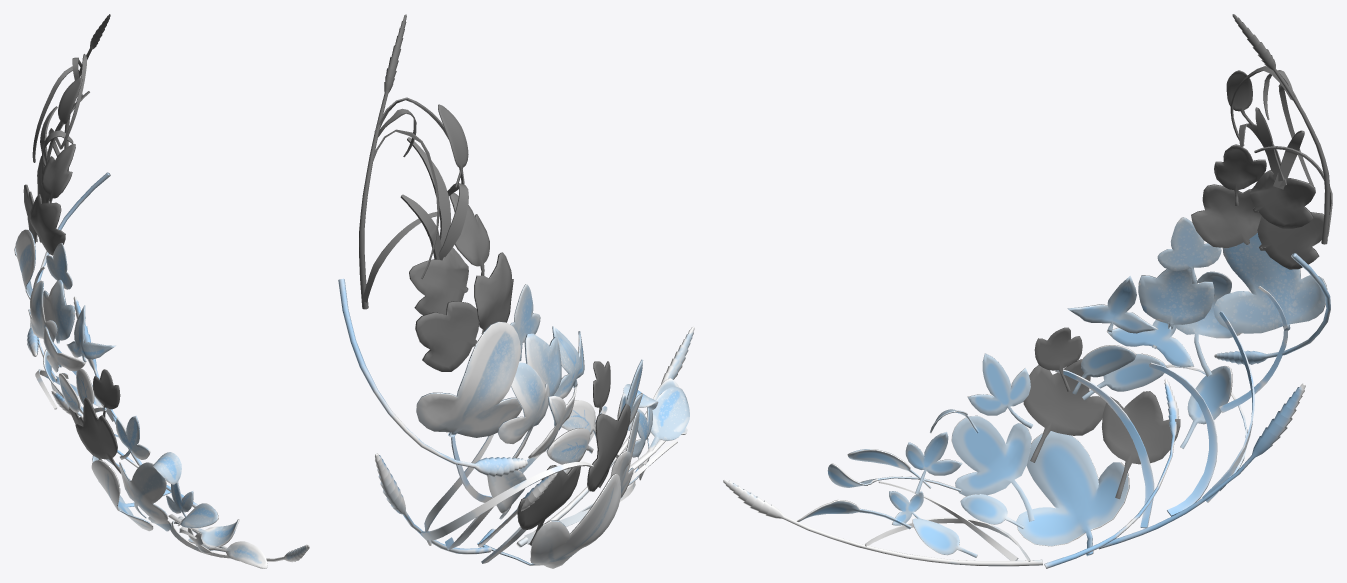
The model's file is schinako_bunny_scene2.obj.
3 views of the same model, side by side, from view 1: azimuth 30°, elevation 25°; view 2: azimuth 150°, elevation 25°; view 3: azimuth 270°, elevation 25° (orthographic). The views are drawn at different scales.
Parts seen in each view (by area): view 1: round_leaf4:round_leaf_GEO round_leaf4:round_leaf, pointy_fat_leaf6:pointy_fat_leaf_GEO pointy_fat_leaf6:pointy_fat, pointy_fat_leaf2:pointy_fat_leaf_GEO pointy_fat_leaf2:pointy_fat, pointy_fat_leaf4:pointy_fat_leaf_GEO pointy_fat_leaf4:pointy_fat, round_leaf1:round_leaf_GEO round_leaf1:round_leaf, pointy_fat_leaf3:pointy_fat_leaf_GEO pointy_fat_leaf3:pointy_fat, round_leaf:round_leaf_GEO round_leaf:round_leaf, pointy_thin_leaf:pointy_thin_leaf_GEO pointy_thin_leaf:pointy_th, round_leaf2:round_leaf_GEO round_leaf2:round_leaf, pointy_thin_leaf2:pointy_thin_leaf_GEO pointy_thin_leaf2:pointy_, single_leaf:single_leaf_GEO single_leaf:single_leaf, pointy_fat_leaf5:pointy_fat_leaf_GEO pointy_fat_leaf5:pointy_fat (+16 smaller); view 2: round_leaf:round_leaf_GEO round_leaf:round_leaf, round_leaf1:round_leaf_GEO round_leaf1:round_leaf, pointy_fat_leaf:pointy_fat_leaf_GEO pointy_fat_leaf:pointy_fat_l, pointy_fat_leaf1:pointy_fat_leaf_GEO pointy_fat_leaf1:pointy_fat, round_leaf2:round_leaf_GEO round_leaf2:round_leaf, reed_stalk1:reed_stalk_GEO reed_stalk1:reed_stalk, pointy_fat_leaf2:pointy_fat_leaf_GEO pointy_fat_leaf2:pointy_fat, pointy_fat_leaf6:pointy_fat_leaf_GEO pointy_fat_leaf6:pointy_fat, pointy_fat_leaf7:pointy_fat_leaf_GEO pointy_fat_leaf7:pointy_fat, reed_stalk:reed_stalk_GEO reed_stalk:reed_stalk, single_leaf9:single_leaf_GEO single_leaf9:single_leaf, pointy_fat_leaf4:pointy_fat_leaf_GEO pointy_fat_leaf4:pointy_fat (+26 smaller); view 3: round_leaf1:round_leaf_GEO round_leaf1:round_leaf, round_leaf:round_leaf_GEO round_leaf:round_leaf, round_leaf4:round_leaf_GEO round_leaf4:round_leaf, pointy_fat_leaf6:pointy_fat_leaf_GEO pointy_fat_leaf6:pointy_fat, pointy_fat_leaf7:pointy_fat_leaf_GEO pointy_fat_leaf7:pointy_fat, pointy_fat_leaf4:pointy_fat_leaf_GEO pointy_fat_leaf4:pointy_fat, pointy_fat_leaf2:pointy_fat_leaf_GEO pointy_fat_leaf2:pointy_fat, pointy_fat_leaf1:pointy_fat_leaf_GEO pointy_fat_leaf1:pointy_fat, pointy_fat_leaf:pointy_fat_leaf_GEO pointy_fat_leaf:pointy_fat_l, pointy_thin_leaf2:pointy_thin_leaf_GEO pointy_thin_leaf2:pointy_, reed_stalk2:reed_stalk_GEO reed_stalk2:reed_stalk, round_leaf3:round_leaf_GEO round_leaf3:round_leaf (+24 smaller).
Boxes of the visible parts, bbox=[...] form: round_leaf4:round_leaf_GEO round_leaf4:round_leaf: bbox=[119, 462, 168, 522]; pointy_fat_leaf6:pointy_fat_leaf_GEO pointy_fat_leaf6:pointy_fat: bbox=[75, 397, 129, 479]; pointy_fat_leaf2:pointy_fat_leaf_GEO pointy_fat_leaf2:pointy_fat: bbox=[29, 194, 65, 255]; pointy_fat_leaf4:pointy_fat_leaf_GEO pointy_fat_leaf4:pointy_fat: bbox=[43, 279, 74, 343]; round_leaf1:round_leaf_GEO round_leaf1:round_leaf: bbox=[91, 456, 171, 531]; pointy_fat_leaf3:pointy_fat_leaf_GEO pointy_fat_leaf3:pointy_fat: bbox=[41, 144, 75, 203]; round_leaf:round_leaf_GEO round_leaf:round_leaf: bbox=[14, 229, 35, 299]; pointy_thin_leaf:pointy_thin_leaf_GEO pointy_thin_leaf:pointy_th: bbox=[66, 305, 115, 362]; round_leaf2:round_leaf_GEO round_leaf2:round_leaf: bbox=[28, 280, 57, 342]; pointy_thin_leaf2:pointy_thin_leaf_GEO pointy_thin_leaf2:pointy_: bbox=[116, 415, 150, 459]; single_leaf:single_leaf_GEO single_leaf:single_leaf: bbox=[207, 541, 267, 568]; pointy_fat_leaf5:pointy_fat_leaf_GEO pointy_fat_leaf5:pointy_fat: bbox=[93, 369, 120, 417]; round_leaf:round_leaf_GEO round_leaf:round_leaf: bbox=[416, 321, 522, 437]; round_leaf1:round_leaf_GEO round_leaf1:round_leaf: bbox=[477, 473, 620, 568]; pointy_fat_leaf:pointy_fat_leaf_GEO pointy_fat_leaf:pointy_fat_l: bbox=[415, 301, 478, 371]; pointy_fat_leaf1:pointy_fat_leaf_GEO pointy_fat_leaf1:pointy_fat: bbox=[409, 248, 468, 315]; round_leaf2:round_leaf_GEO round_leaf2:round_leaf: bbox=[498, 362, 549, 458]; reed_stalk1:reed_stalk_GEO reed_stalk1:reed_stalk: bbox=[338, 278, 527, 476]; pointy_fat_leaf2:pointy_fat_leaf_GEO pointy_fat_leaf2:pointy_fat: bbox=[474, 252, 513, 333]; pointy_fat_leaf6:pointy_fat_leaf_GEO pointy_fat_leaf6:pointy_fat: bbox=[587, 403, 630, 491]; pointy_fat_leaf7:pointy_fat_leaf_GEO pointy_fat_leaf7:pointy_fat: bbox=[517, 465, 580, 545]; reed_stalk:reed_stalk_GEO reed_stalk:reed_stalk: bbox=[359, 14, 406, 309]; single_leaf9:single_leaf_GEO single_leaf9:single_leaf: bbox=[642, 386, 689, 464]; pointy_fat_leaf4:pointy_fat_leaf_GEO pointy_fat_leaf4:pointy_fat: bbox=[524, 333, 561, 396]; round_leaf1:round_leaf_GEO round_leaf1:round_leaf: bbox=[1016, 431, 1129, 556]; round_leaf:round_leaf_GEO round_leaf:round_leaf: bbox=[1213, 233, 1327, 333]; round_leaf4:round_leaf_GEO round_leaf4:round_leaf: bbox=[951, 415, 1034, 521]; pointy_fat_leaf6:pointy_fat_leaf_GEO pointy_fat_leaf6:pointy_fat: bbox=[1023, 359, 1106, 462]; pointy_fat_leaf7:pointy_fat_leaf_GEO pointy_fat_leaf7:pointy_fat: bbox=[1102, 391, 1180, 498]; pointy_fat_leaf4:pointy_fat_leaf_GEO pointy_fat_leaf4:pointy_fat: bbox=[1138, 268, 1214, 329]; pointy_fat_leaf2:pointy_fat_leaf_GEO pointy_fat_leaf2:pointy_fat: bbox=[1191, 184, 1261, 247]; pointy_fat_leaf1:pointy_fat_leaf_GEO pointy_fat_leaf1:pointy_fat: bbox=[1250, 170, 1315, 228]; pointy_fat_leaf:pointy_fat_leaf_GEO pointy_fat_leaf:pointy_fat_l: bbox=[1257, 212, 1323, 269]; pointy_thin_leaf2:pointy_thin_leaf_GEO pointy_thin_leaf2:pointy_: bbox=[967, 353, 1033, 428]; reed_stalk2:reed_stalk_GEO reed_stalk2:reed_stalk: bbox=[723, 479, 1042, 566]; round_leaf3:round_leaf_GEO round_leaf3:round_leaf: bbox=[1157, 217, 1221, 283].
Size of the model in its own units: 6.03 by 21.17 by 20.96.
Materials: 4 (3 with a texture image).
